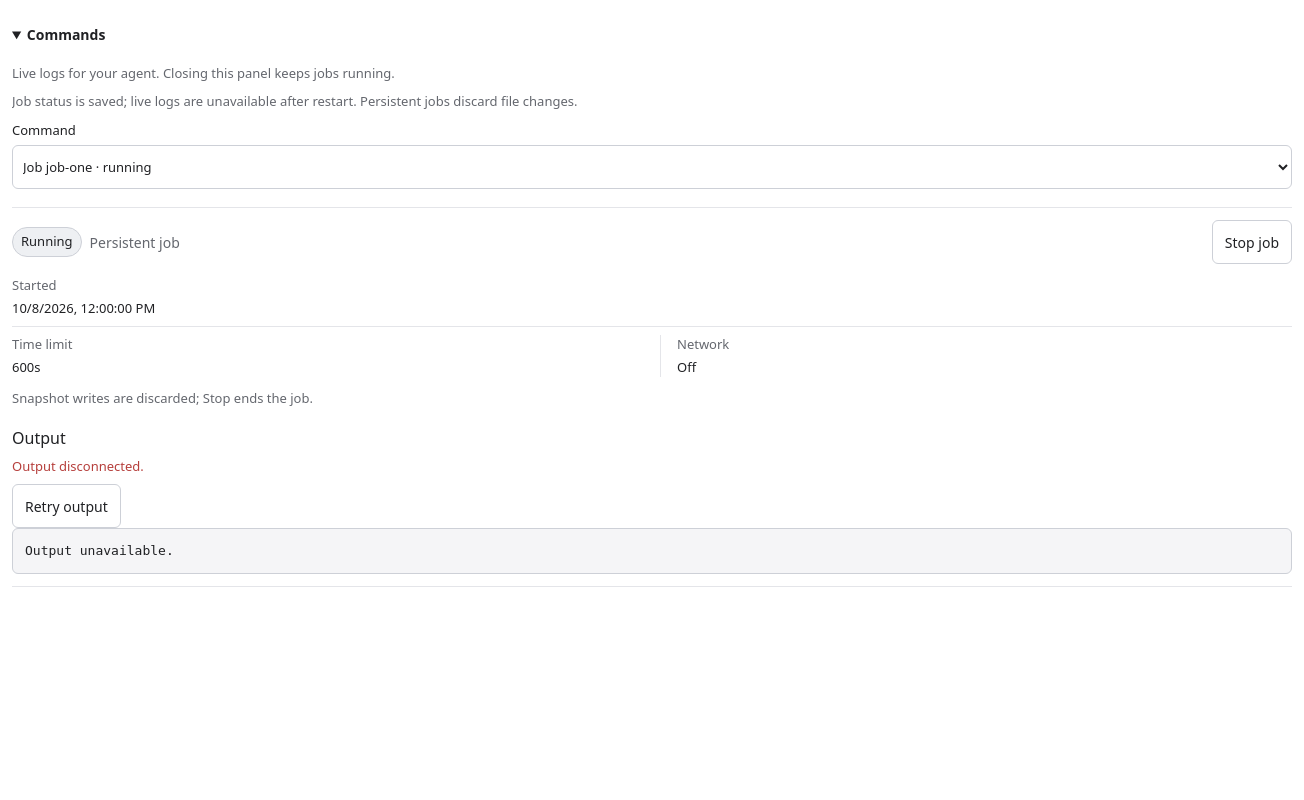
NativeCommandJobs › reconnects output explicitly without restarting or stopping the command
Check: the message "Output disconnected." is shown, box [12,456,144,474]
Click the button "Retry output": click(66, 506) [12,484,121,528]
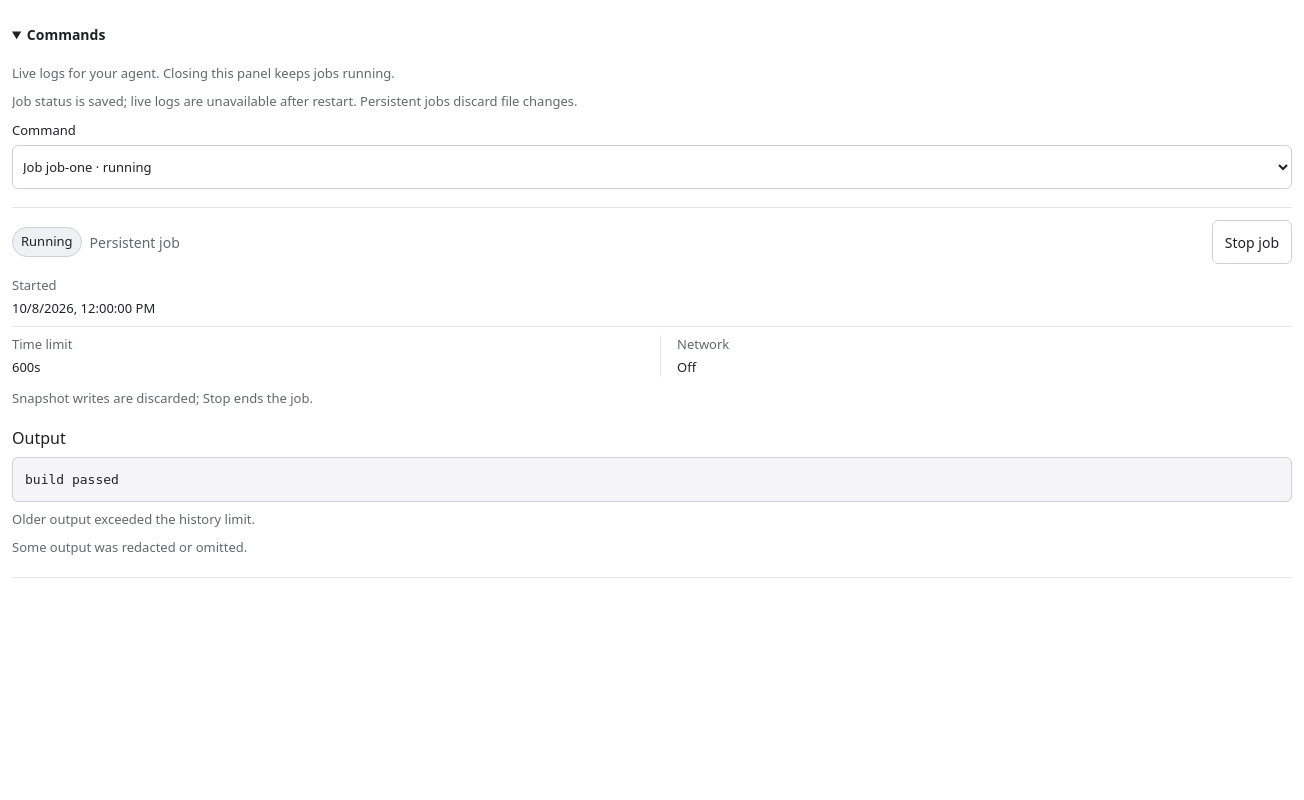
Check: the text "build passed" is shown, box [12,456,1292,502]
Check: the message "Output disconnected." is gone
